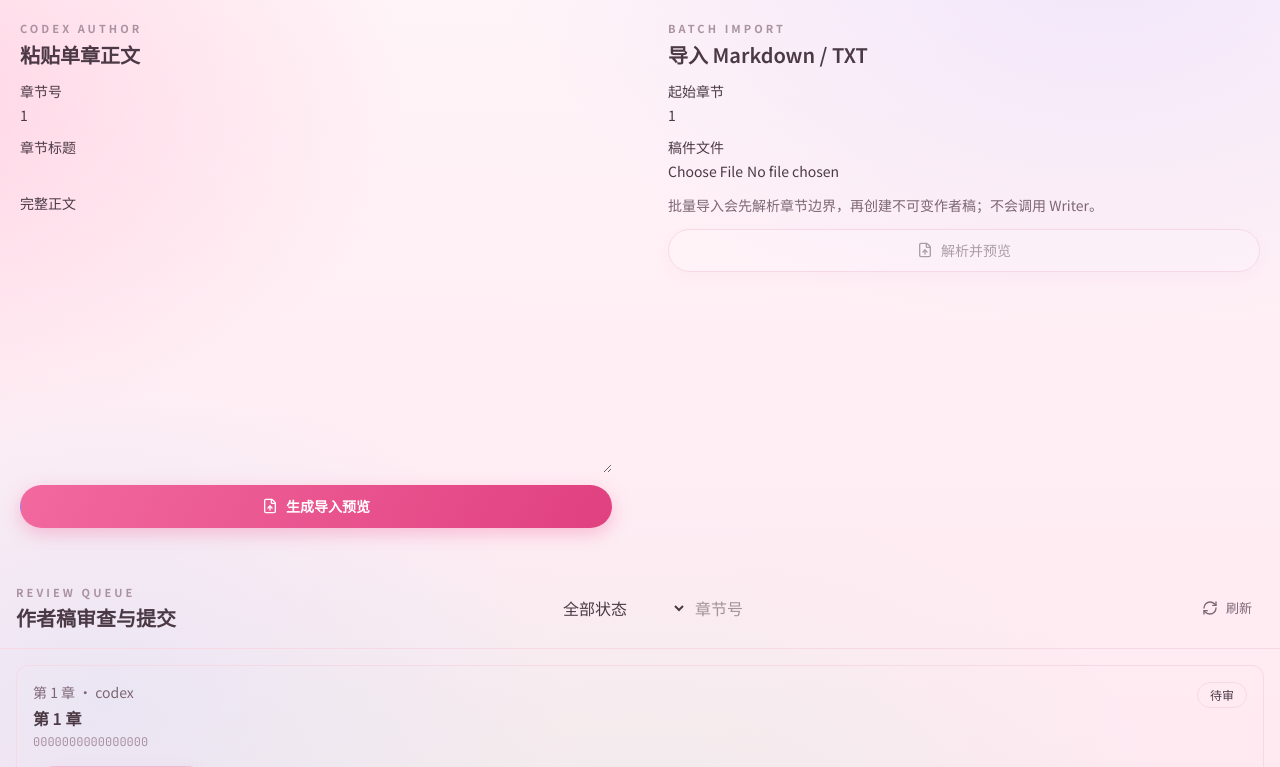
Test case: AuthorSubmissionsClient › renders and filters an 80-row author queue with hashes and statuses
Select "已通过" in the dropdown named "状态筛选" at (623, 608), box [559,595,687,621]
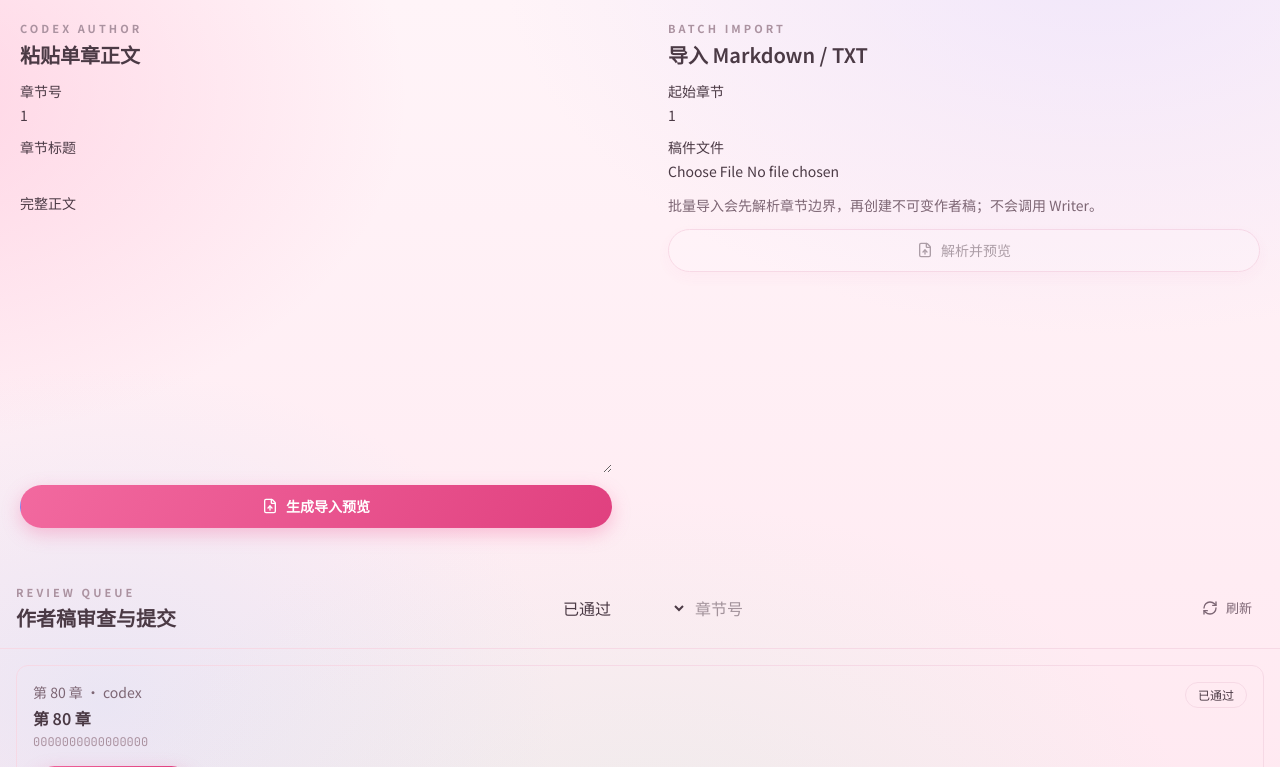
Check: the heading "第 80 章" is shown, box [33,706,91,730]
Check: the text "第 1 章" is gone
